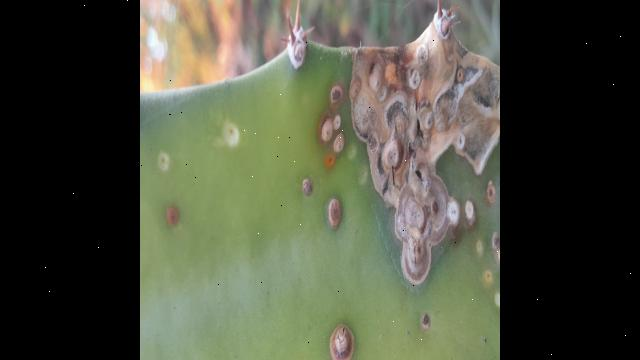stemcanker: (142, 3, 500, 360)
